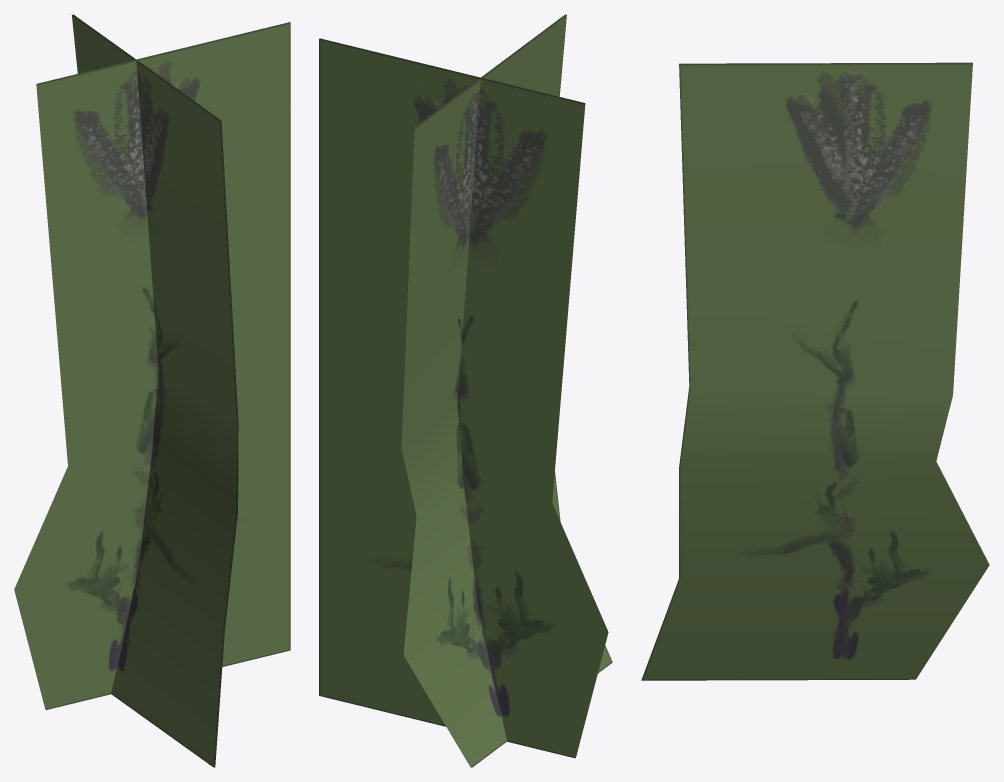
Rendered from BgMD_Tanihira_PlantOhishibaOnly_03_01.fbx.
The picture shows the model from 3 angles, left to right: view 1: azimuth 30°, elevation 25°; view 2: azimuth 150°, elevation 25°; view 3: azimuth 270°, elevation 25°; orthographic projection. The views are drawn at different scales.
Parts seen in each view (by area): view 1: polySurface13; view 2: polySurface13; view 3: polySurface13.
Boxes of the visible parts, box(x1,y1,x2,y2) form: polySurface13: box(14, 14, 290, 767); polySurface13: box(319, 14, 612, 767); polySurface13: box(641, 62, 989, 680).
Bounding box in the file's own units: 9.2 × 20 × 10.02.
